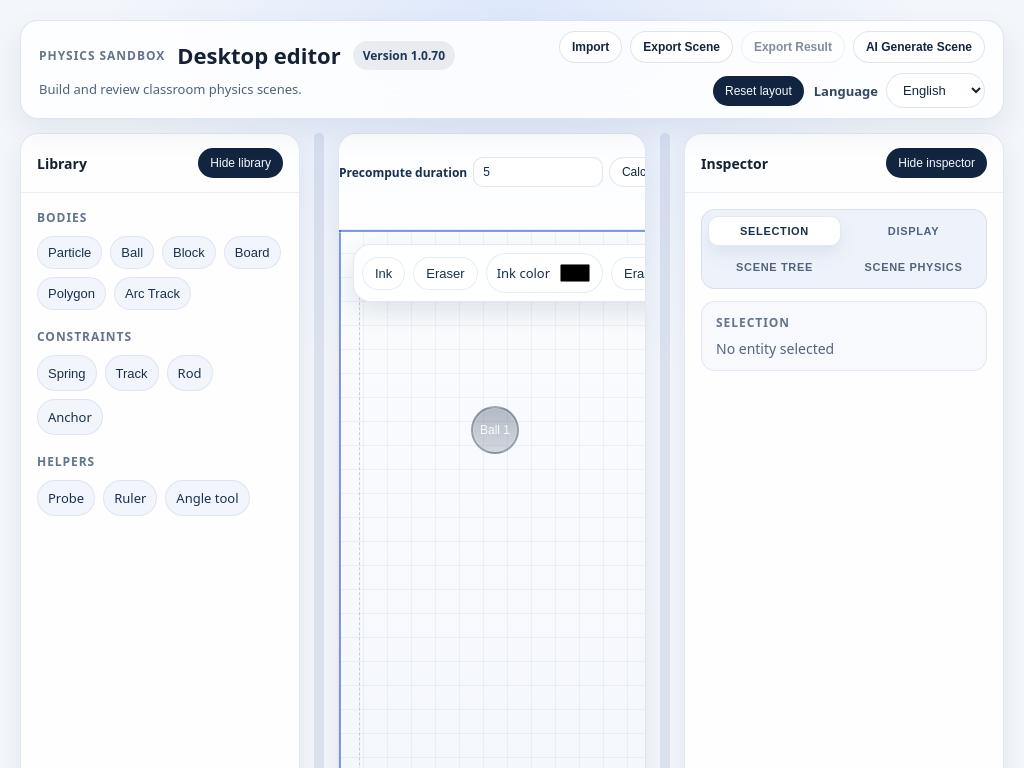
Test case: App runtime features › moves scene physics into the inspector tab set with SI defaults and classroom world scale
Expected: the field labelled "Gravity" is not shown
Click the tab "SCENE PHYSICS".
click(914, 267)  # box 847,252 -> 980,282
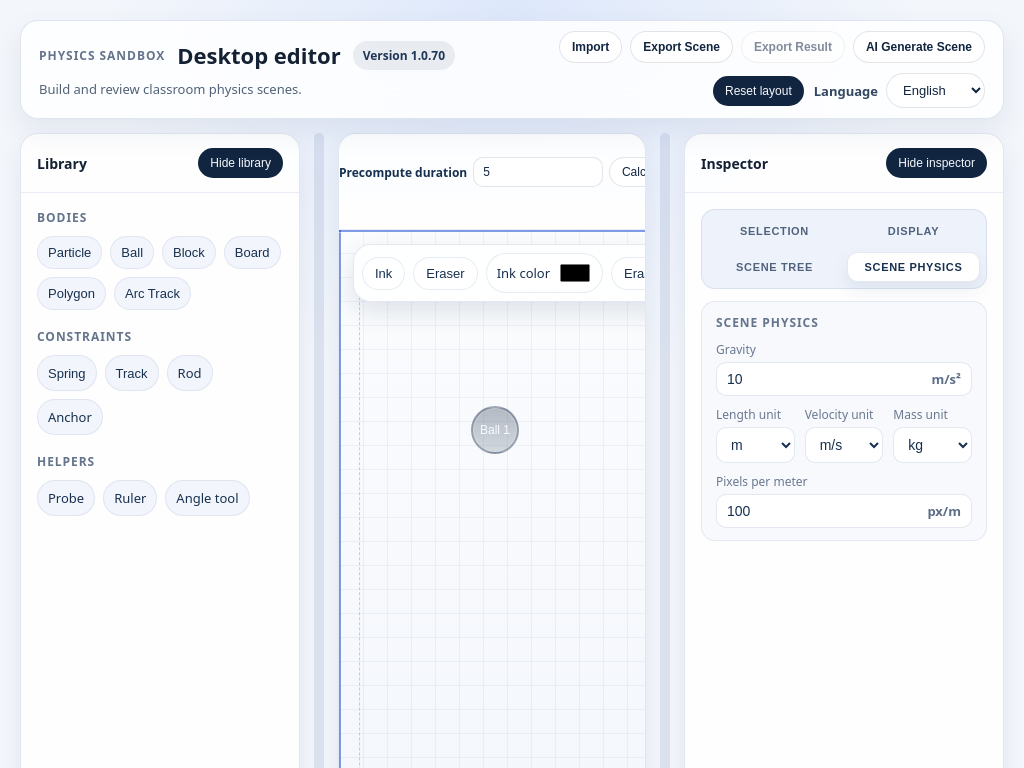
Expected: the number field labelled "Gravity" holds "10", 727,363 -> 924,395
Expected: the text "m/s²" is shown, 932,370 -> 961,388
Expected: the dropdown labelled "Length unit" shows "m", 716,427 -> 795,463
